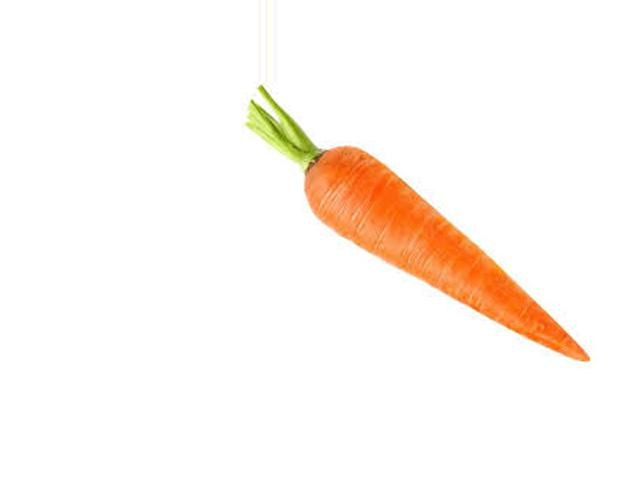carrot: (284, 138, 592, 369)
